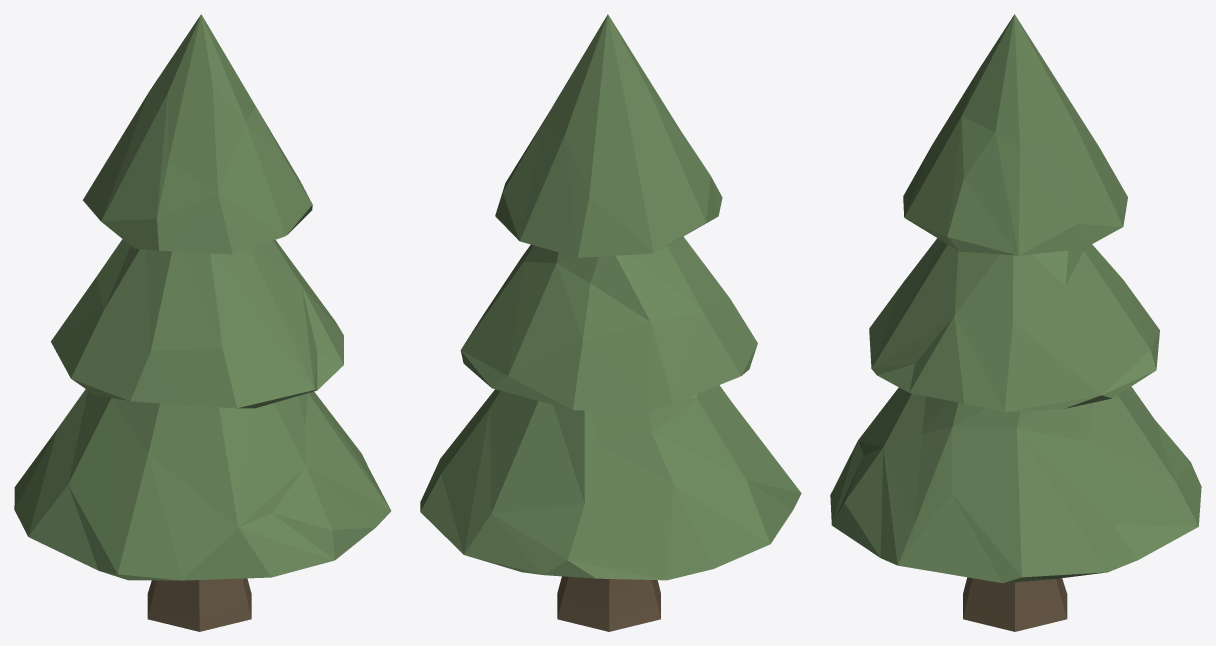
The model's file is Low_Poly_Tree.fbx.
3 views of the same model, side by side, from view 1: azimuth 30°, elevation 25°; view 2: azimuth 150°, elevation 25°; view 3: azimuth 270°, elevation 25° (orthographic).
Parts seen in each view (by area): view 1: Leaves, Trunk; view 2: Leaves, Trunk; view 3: Leaves, Trunk.
Boxes of the visible parts, <box> form: Leaves: <box>14,14,391,580</box>; Trunk: <box>147,578,251,631</box>; Leaves: <box>420,14,801,580</box>; Trunk: <box>557,576,660,631</box>; Leaves: <box>830,14,1201,583</box>; Trunk: <box>963,577,1067,631</box>.
Size of the model in its own units: 2.33 by 3.97 by 2.25.
